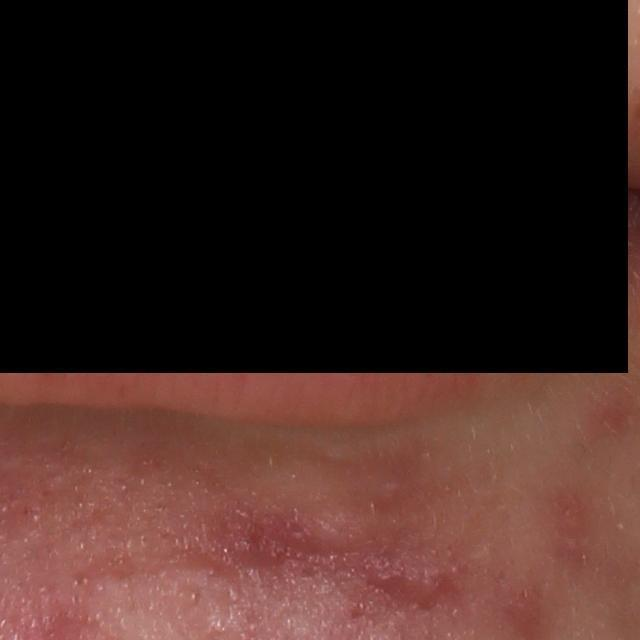hypertrophic_scar: (226, 454, 406, 546)
papule: (555, 495, 584, 565), (411, 564, 448, 608), (509, 590, 538, 640)
